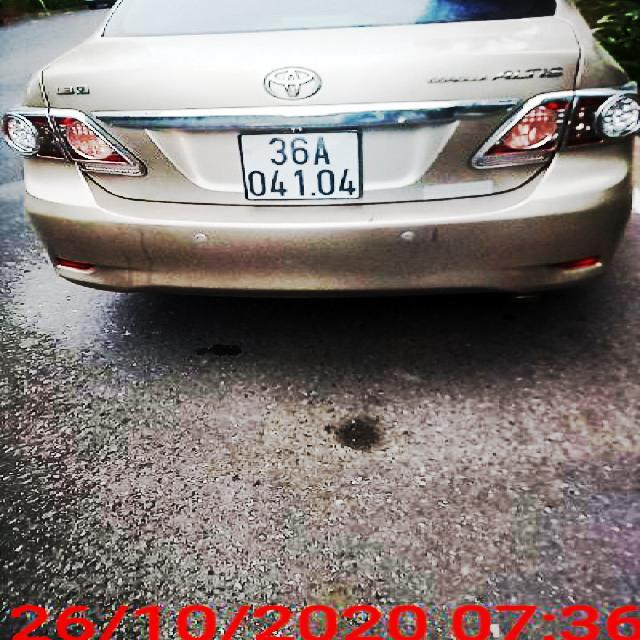license_plate: (240, 134, 374, 204)
